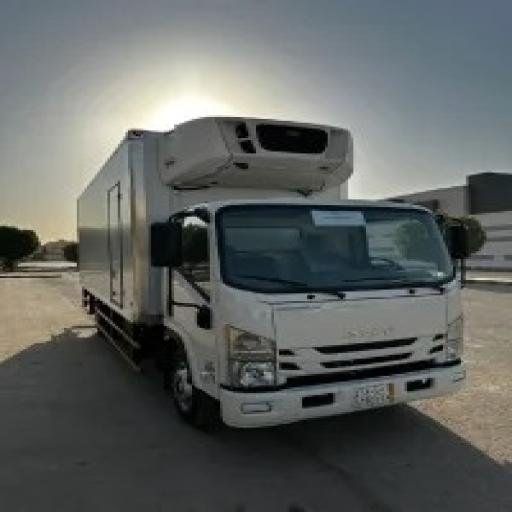license-plates: (348, 383, 395, 409)
